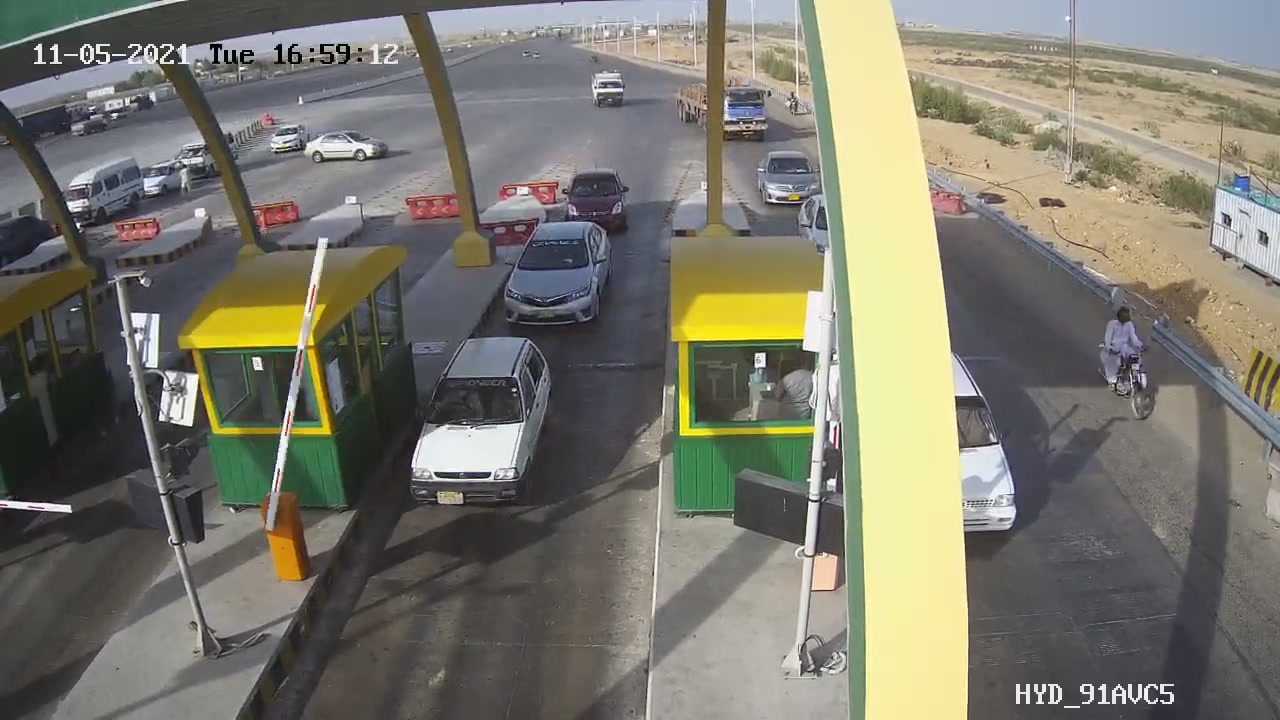F1: (393, 324, 571, 520), (483, 210, 631, 341), (550, 163, 649, 250)
